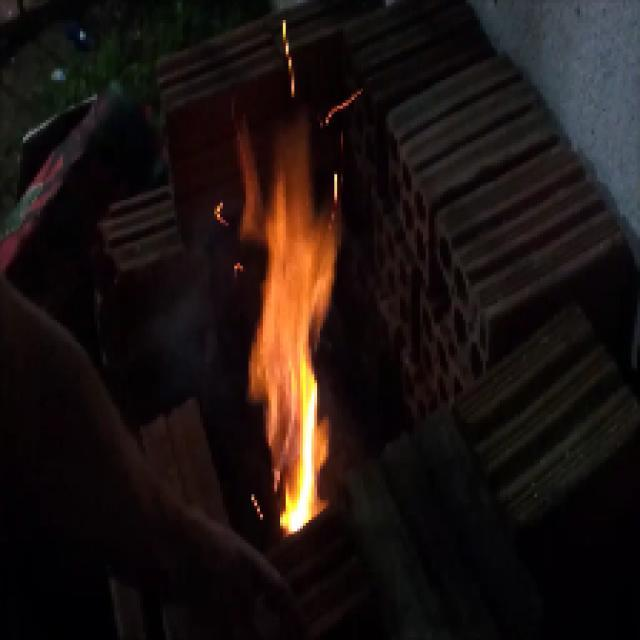Fire: (237, 116, 343, 530)
